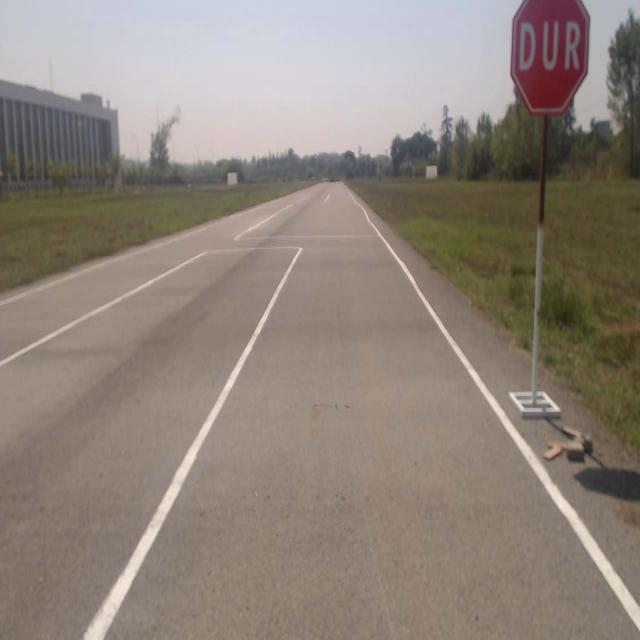dur: (510, 1, 590, 115)
